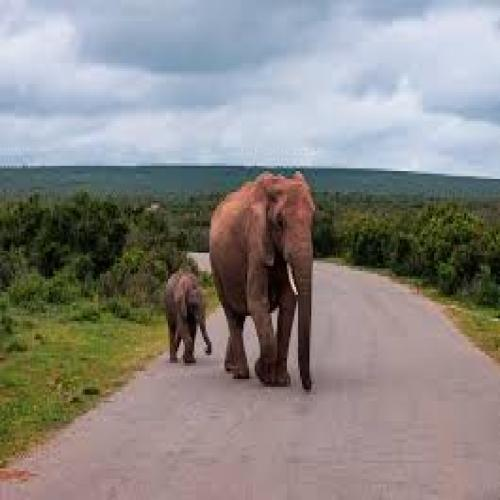asian_elephant-endangered: (209, 166, 315, 394), (165, 278, 212, 361)
